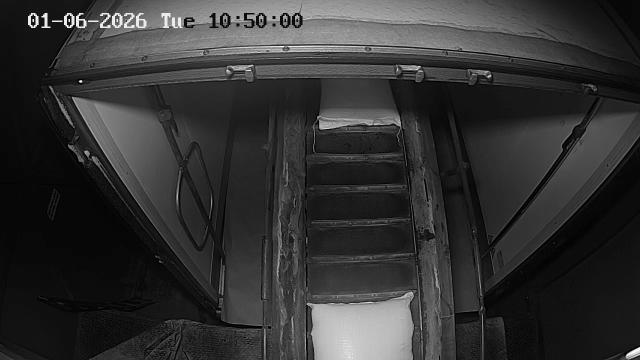bag: (308, 292, 415, 360), (318, 78, 399, 129)
